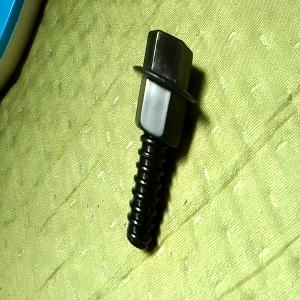parafuso: (125, 26, 197, 250)
